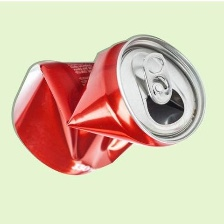can: (5, 32, 211, 183)
